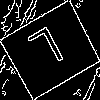L: (25, 25, 71, 79)
